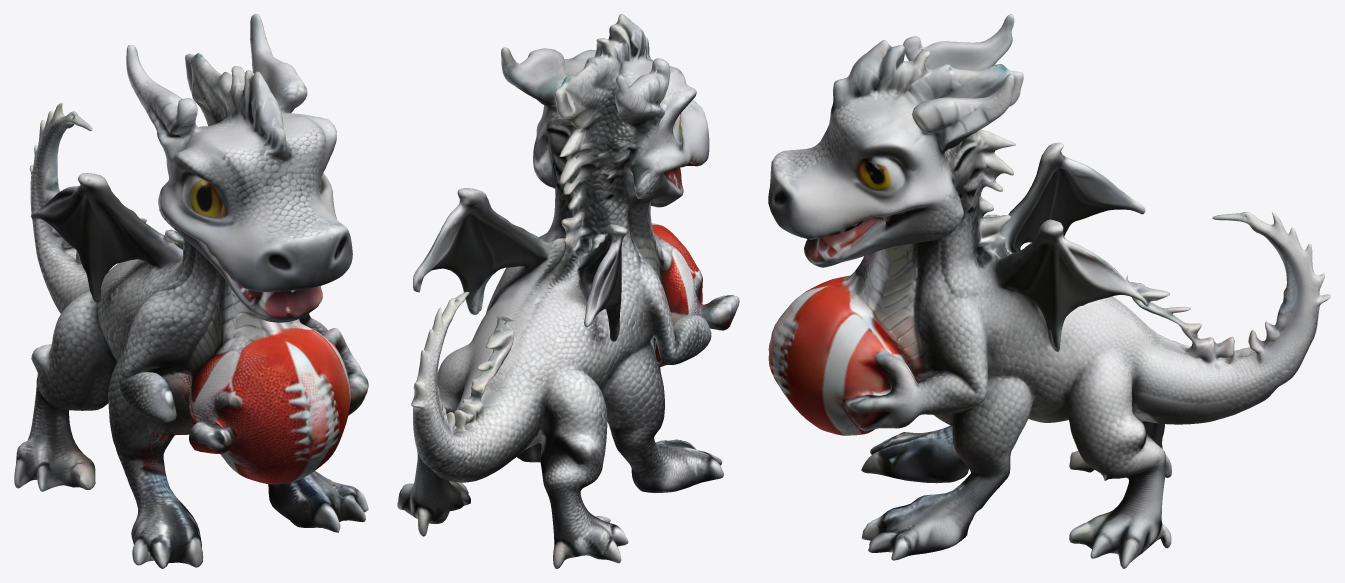
File: dragon.glb
The picture shows the model from 3 angles, left to right: view 1: azimuth 30°, elevation 25°; view 2: azimuth 150°, elevation 25°; view 3: azimuth 270°, elevation 25°; orthographic projection. The views are drawn at different scales.
Visible parts, largest first — view 1: tripo_node_ca0b6e01-3fe1-48b1-a94a-551edff08540; view 2: tripo_node_ca0b6e01-3fe1-48b1-a94a-551edff08540; view 3: tripo_node_ca0b6e01-3fe1-48b1-a94a-551edff08540.
Boxes of the visible parts, x1,y1,x2,y2 form: tripo_node_ca0b6e01-3fe1-48b1-a94a-551edff08540: (14, 14, 368, 568); tripo_node_ca0b6e01-3fe1-48b1-a94a-551edff08540: (397, 14, 739, 568); tripo_node_ca0b6e01-3fe1-48b1-a94a-551edff08540: (768, 14, 1330, 568).
Bounding box in the file's own units: 0.3629 × 0.6862 × 0.7392.
Materials: 1 (1 with a texture image).
